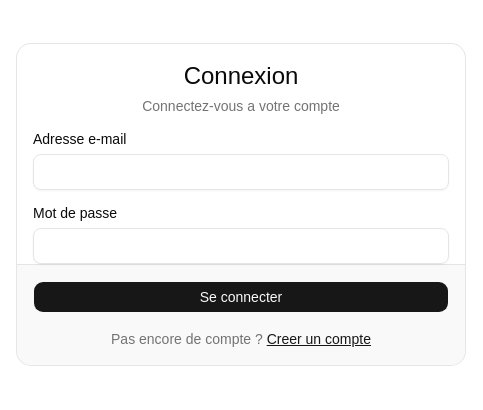
Page Login › affiche une erreur si login échoue (erreur générique)
The image size is (483, 410).
In the field labelled "Adresse e-mail": x=241, y=172 [33,154,449,190], type "bad@test.com"
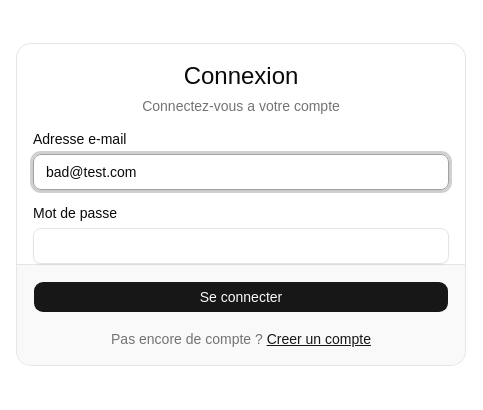
In the password field labelled "Mot de passe": x=241, y=246 [33,228,449,264], type "wrongpass"
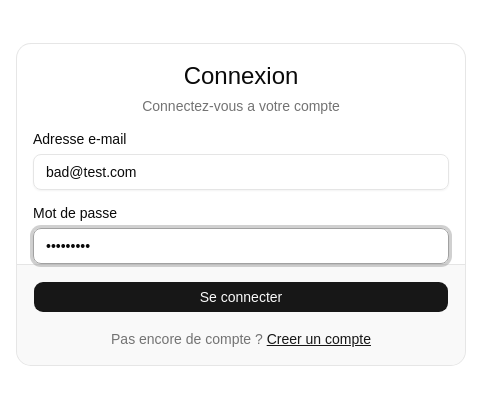
Click the button "Se connecter": x=241, y=296 [33,280,449,312]
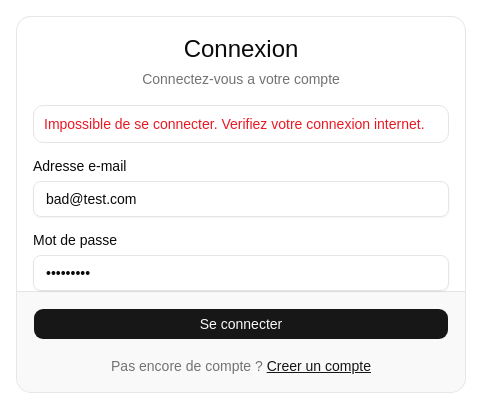
Check: the text "Impossible de se connecter" is shown, box [44,116,425,132]
